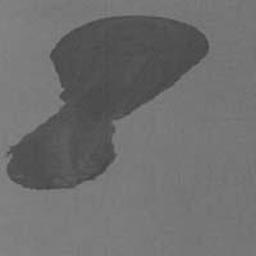Oil spot: (4, 14, 210, 192)
